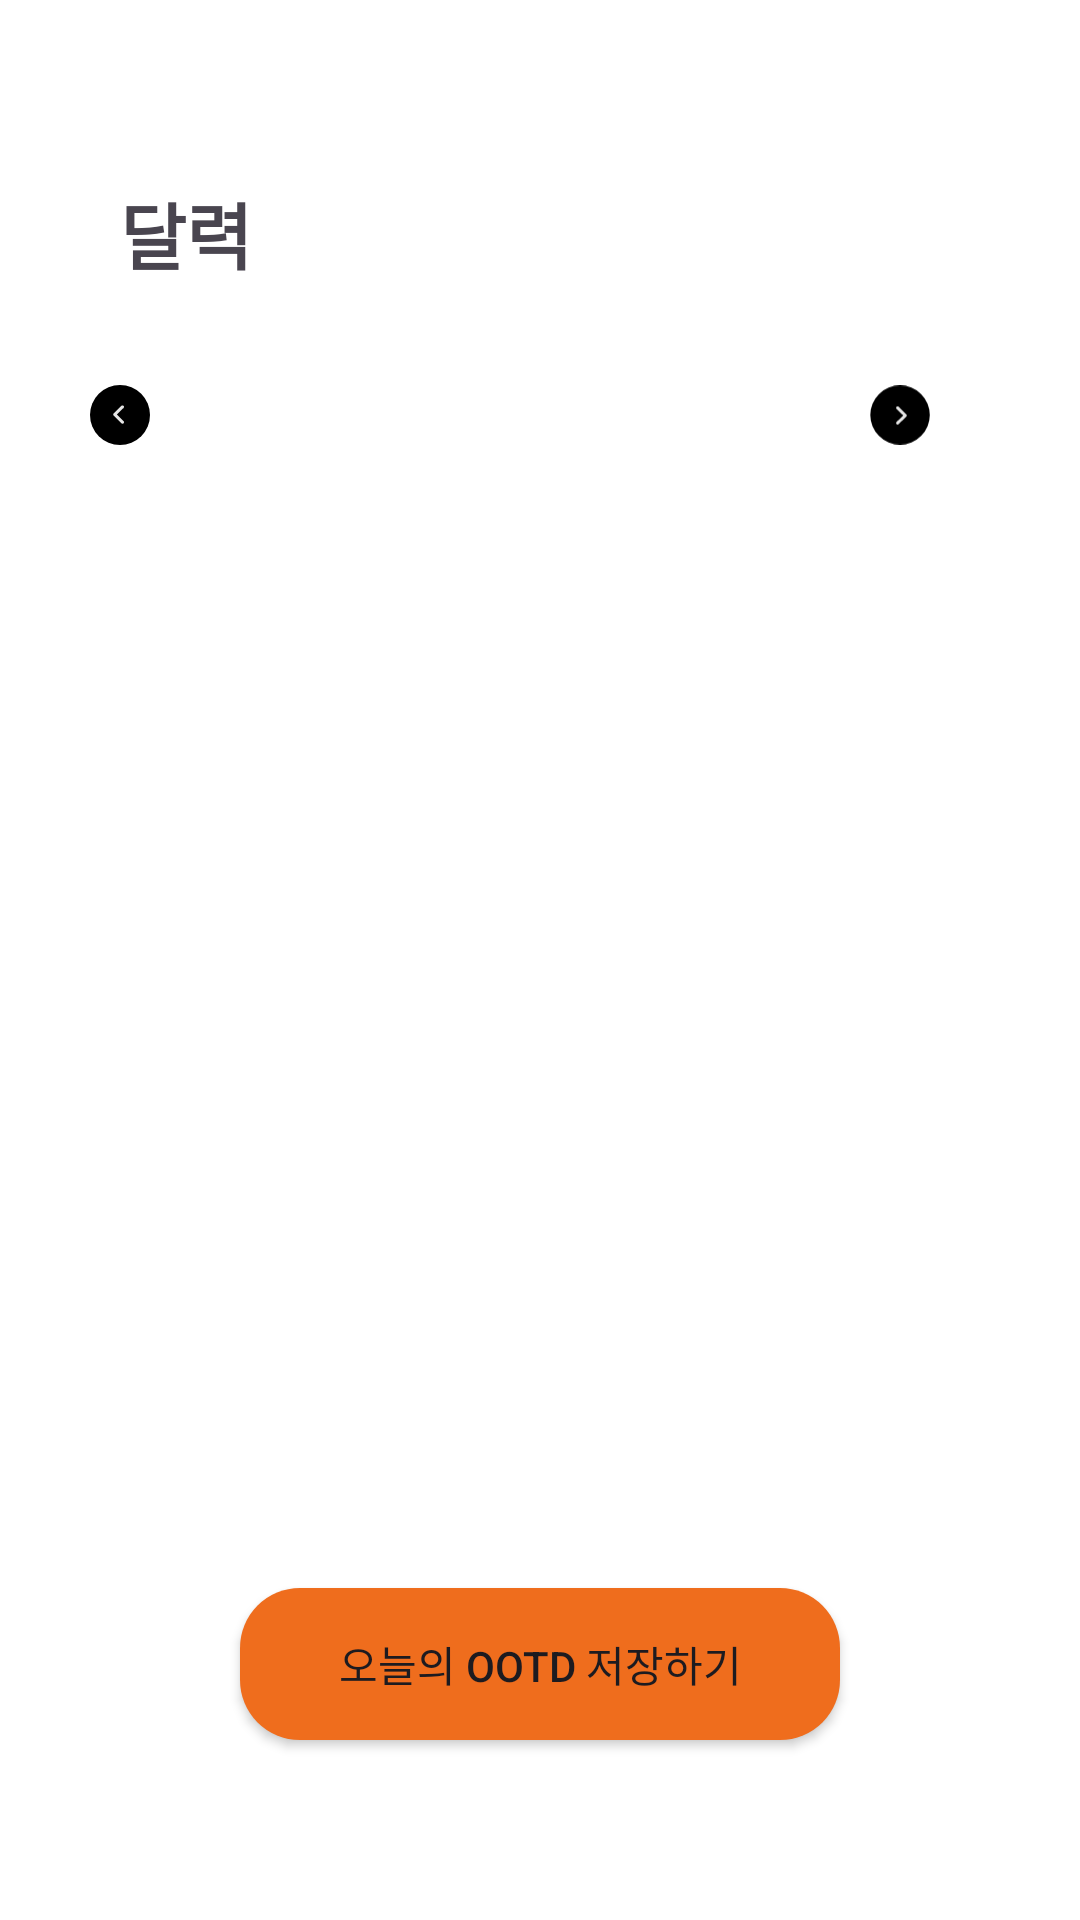

Point at icon controls on the screen. Image size 1080*1920, points as [x,y].
calendar arrow left: [120,415]
calendar arrow right: [900,415]
